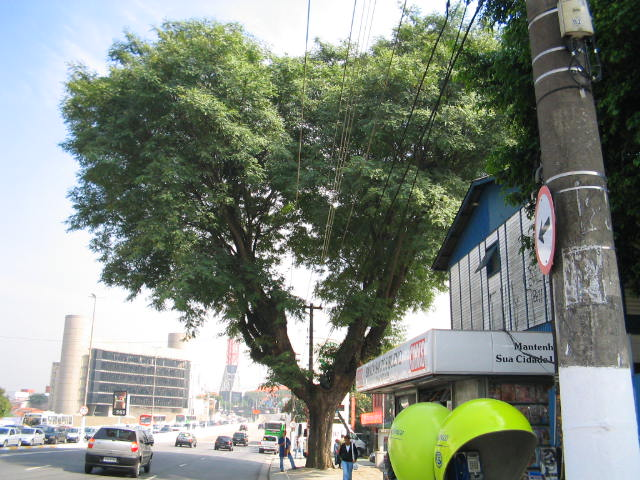crown: (59, 3, 520, 344)
stem: (300, 409, 342, 469)
stick: (282, 401, 291, 469)
tree: (57, 2, 521, 469)
